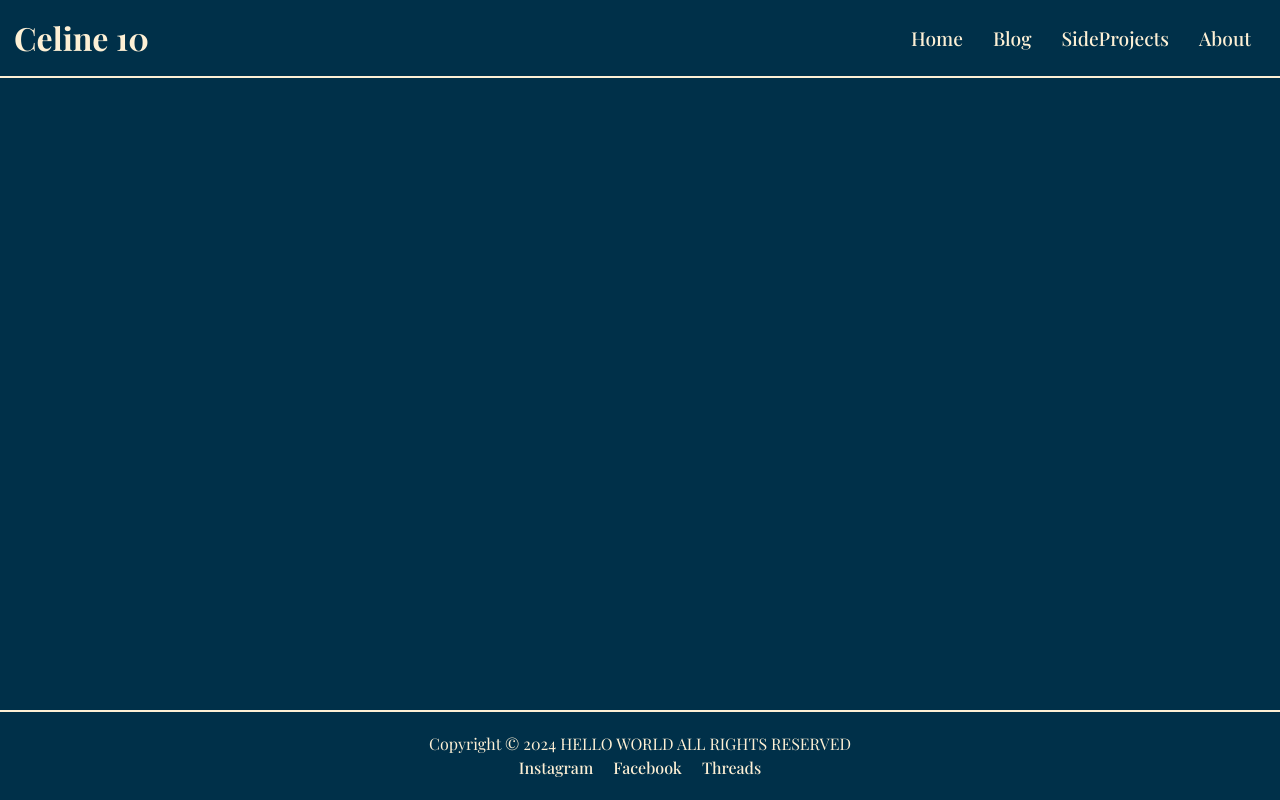
Scenario: layout page › clicks and change to about page
This screenshot has width=1280, height=800.
Click the link "About": (1225, 38) [1199,25,1251,51]
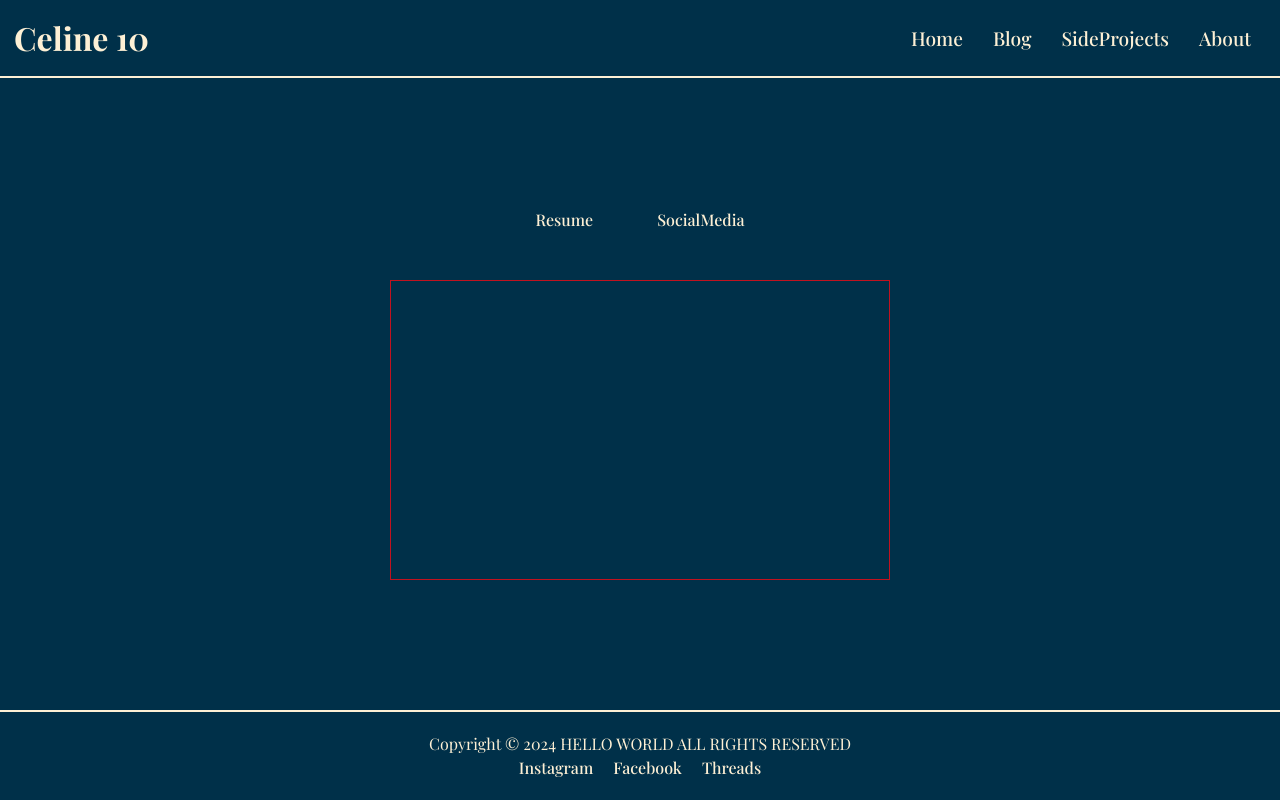
Result: the link "Resume" is shown at [535,208,593,232]
